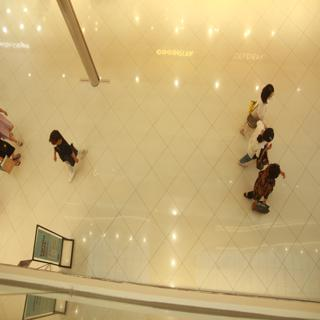person: (48, 120, 91, 191), (240, 82, 284, 133), (259, 161, 294, 224), (244, 128, 279, 171)
